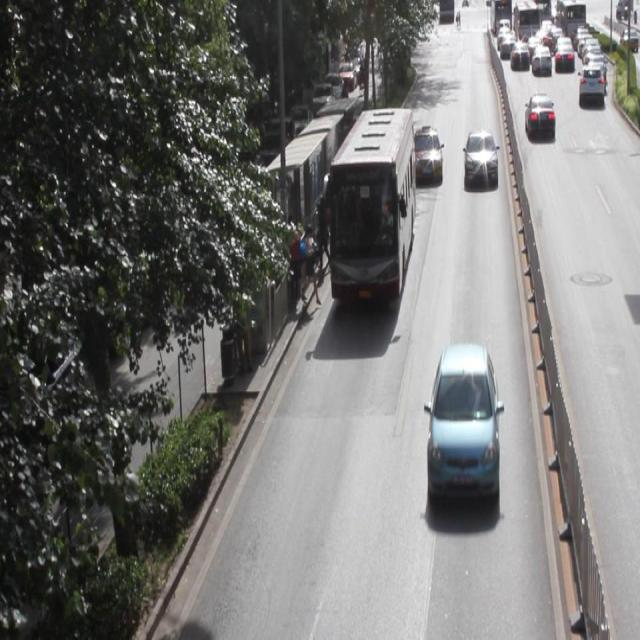car: (428, 340, 499, 498), (463, 130, 496, 185), (411, 126, 442, 182), (523, 93, 554, 135)
van: (328, 106, 413, 301)
